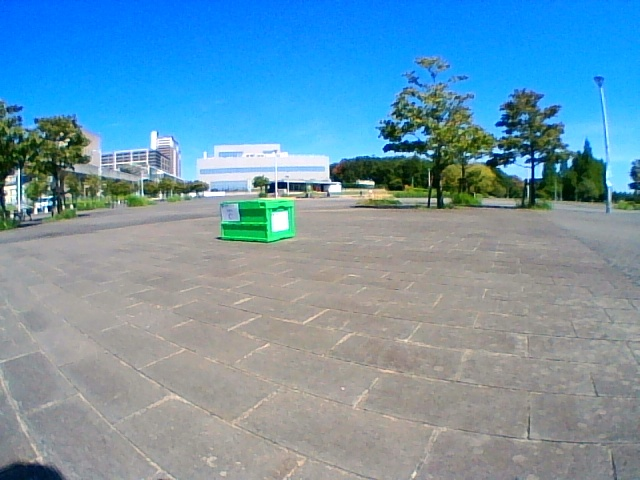green_box: (219, 200, 295, 242)
tag: (221, 204, 239, 222)
